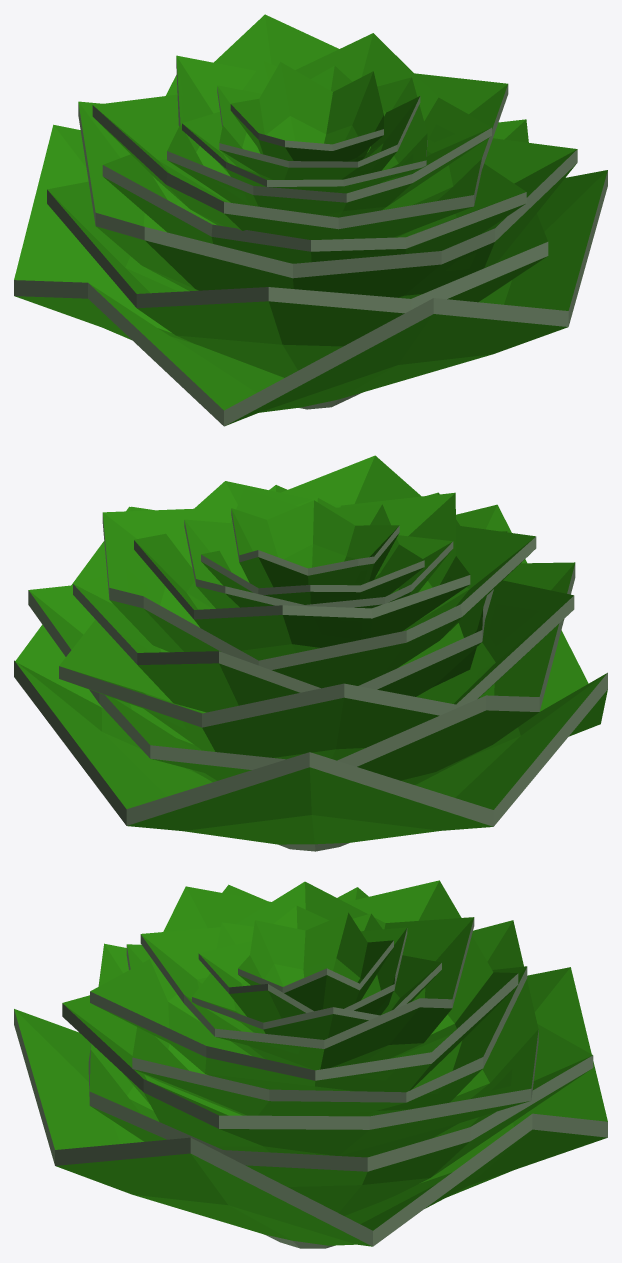
The model's file is Ma_Lettuce.fbx.
The picture shows the model from 3 angles, top to bottom: view 1: azimuth 30°, elevation 25°; view 2: azimuth 150°, elevation 25°; view 3: azimuth 270°, elevation 25°; orthographic projection. The views are drawn at different scales.
Parts seen in each view (by area): view 1: Ma_Lettuce; view 2: Ma_Lettuce; view 3: Ma_Lettuce.
Part boxes in pixels (left/top/right/bottom): Ma_Lettuce: left=14, top=14, right=607, bottom=426; Ma_Lettuce: left=14, top=455, right=607, bottom=851; Ma_Lettuce: left=14, top=880, right=607, bottom=1248.
Bounding box in the file's own units: 180 × 184 × 102.
